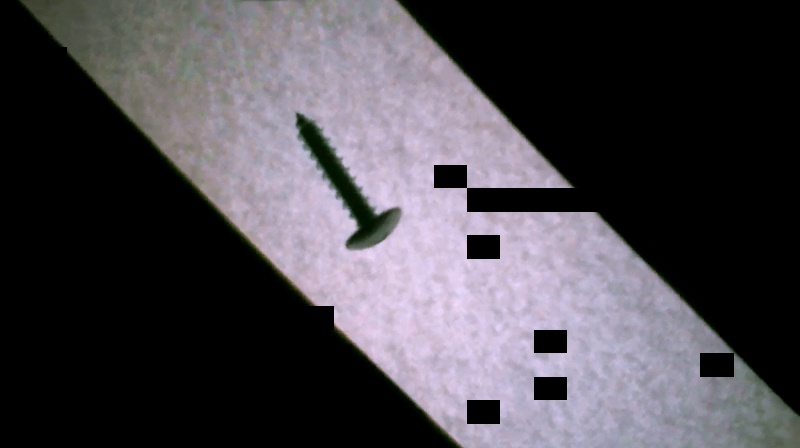S003: (291, 109, 405, 253)
